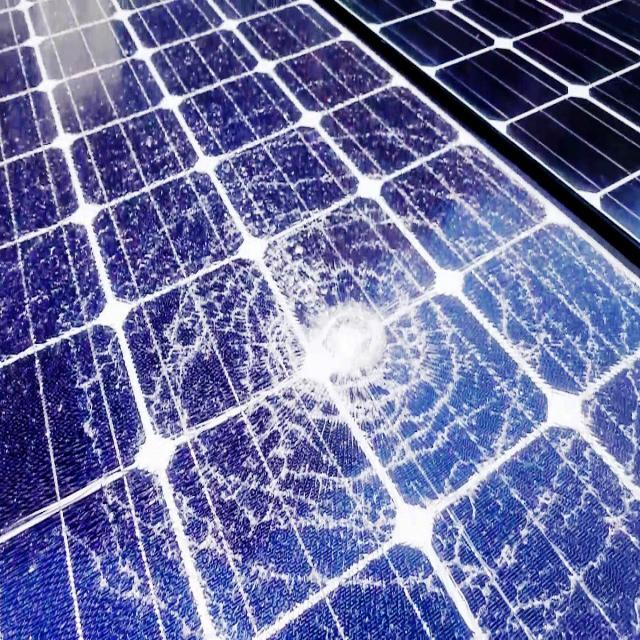faulty: (0, 23, 640, 640)
no faulty: (330, 4, 640, 275)
